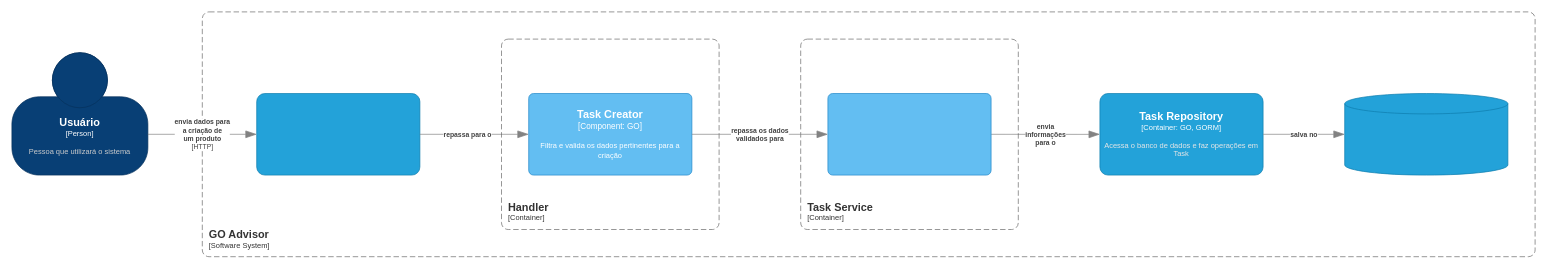
Image size: 1547x269. Some labels were removed from this diagram. Each missing label, with the centre of its shape:
API [Container: GO, Chi] API REST: the point at 338,134
Banco de dados [Container: PostgreSQL 16] Persiste as informações das Tasks: the point at 1426,134
Create [Component: GO] Filtra e valida os dados pertinentes para a criação: the point at 909,134
